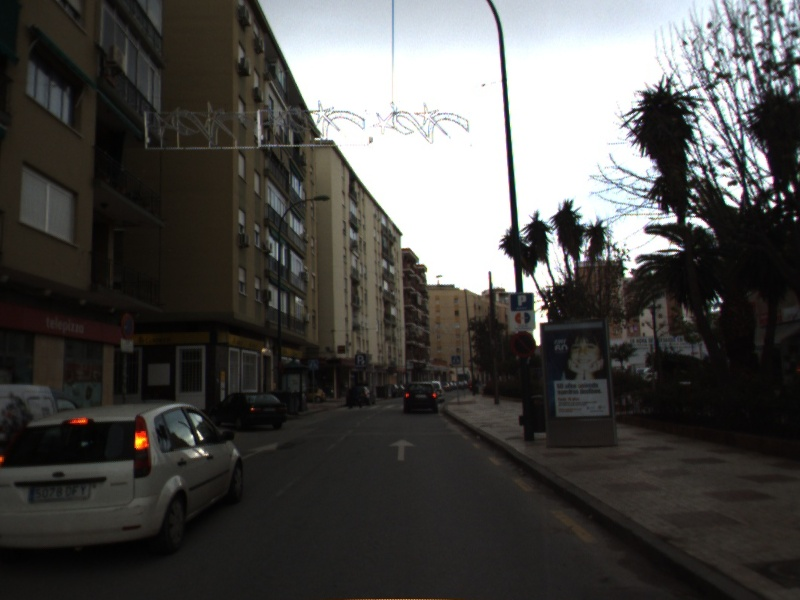STRAIGHT: (240, 439, 281, 462), (386, 437, 419, 463)
